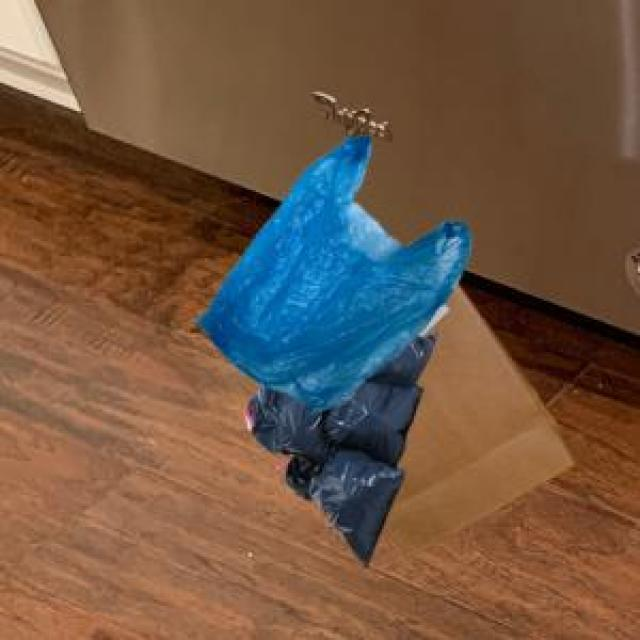miscellaneous trash: (241, 329, 432, 561)
paper: (380, 280, 572, 553)
